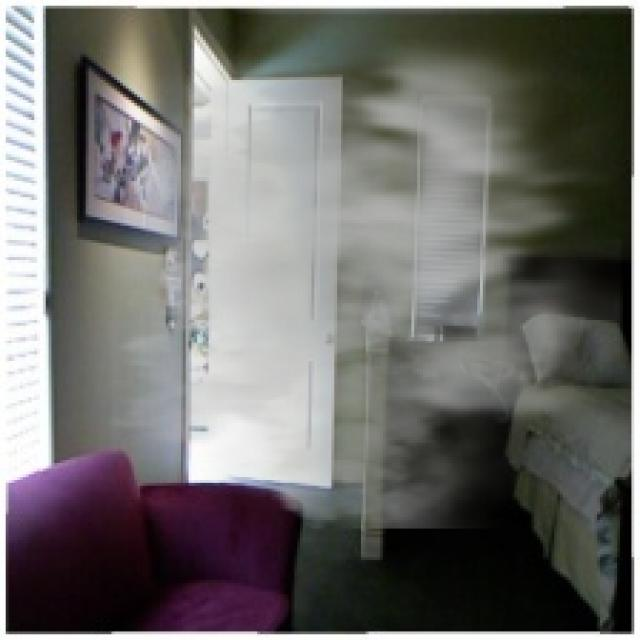smoke: (54, 11, 623, 528)
